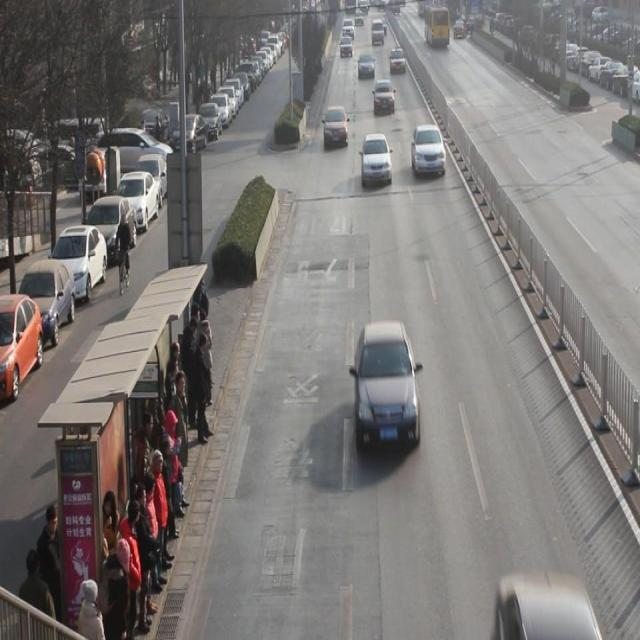car: (354, 320, 422, 454), (413, 123, 448, 177), (362, 132, 394, 188), (324, 104, 349, 148), (374, 78, 396, 116), (358, 52, 376, 81), (390, 47, 408, 76)
